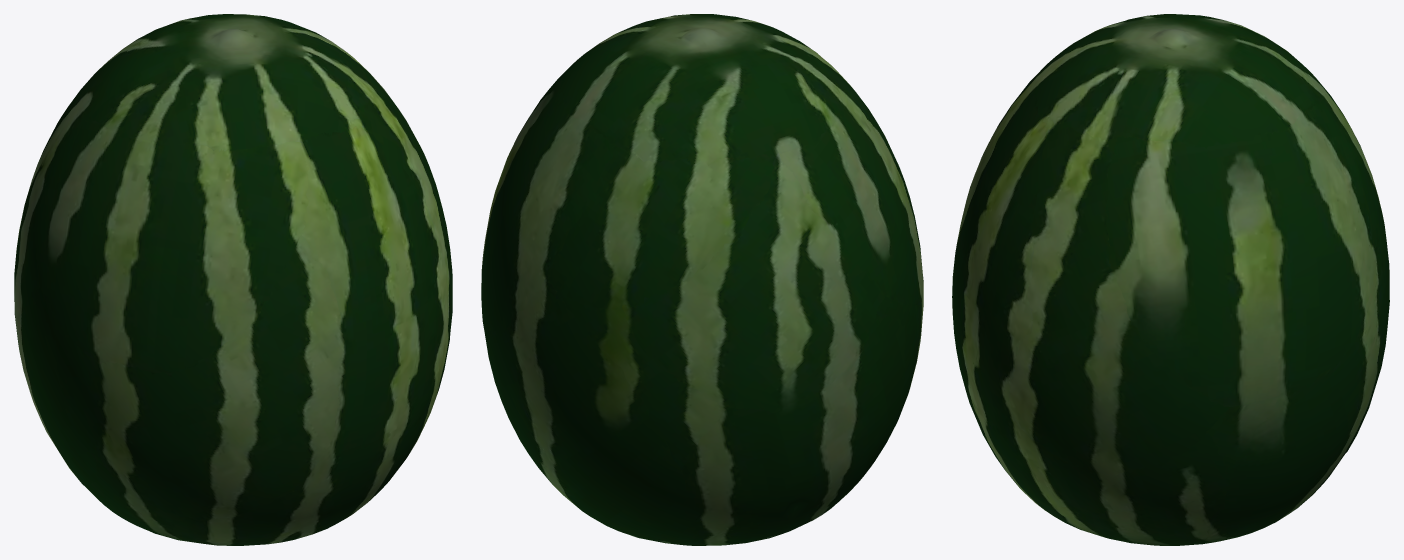
File: watermelon.glb
The picture shows the model from 3 angles, left to right: view 1: azimuth 30°, elevation 25°; view 2: azimuth 150°, elevation 25°; view 3: azimuth 270°, elevation 25°; orthographic projection.
Parts seen in each view (by area): view 1: material; view 2: material; view 3: material.
Part boxes in pixels (x1=…): material: x1=14, y1=14, x2=452, y2=545; material: x1=481, y1=14, x2=923, y2=545; material: x1=952, y1=14, x2=1389, y2=545.
Bounding box in the file's own units: 0.9451 × 1.11 × 0.9338.
1 material, 1 textured.
